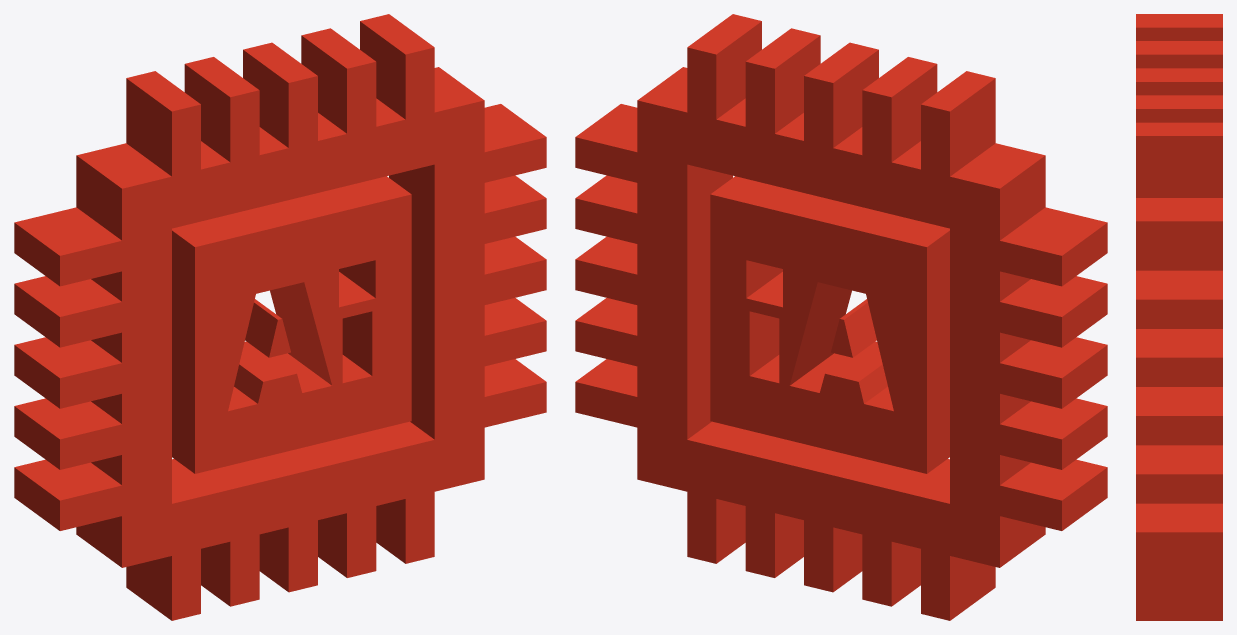
File: Icon_Chip.fbx
3 renders of one model, left to right at view 1: azimuth 30°, elevation 25°; view 2: azimuth 150°, elevation 25°; view 3: azimuth 270°, elevation 25°, orthographic. The views are drawn at different scales.
Visible parts, largest first — view 1: Icon_Chip; view 2: Icon_Chip; view 3: Icon_Chip.
Part boxes in pixels (x1,y1,x2,y2): Icon_Chip: [14, 14, 546, 620]; Icon_Chip: [575, 14, 1107, 620]; Icon_Chip: [1136, 14, 1222, 620].
Bounding box in the file's own units: 74.2 × 74.21 × 12.06.
